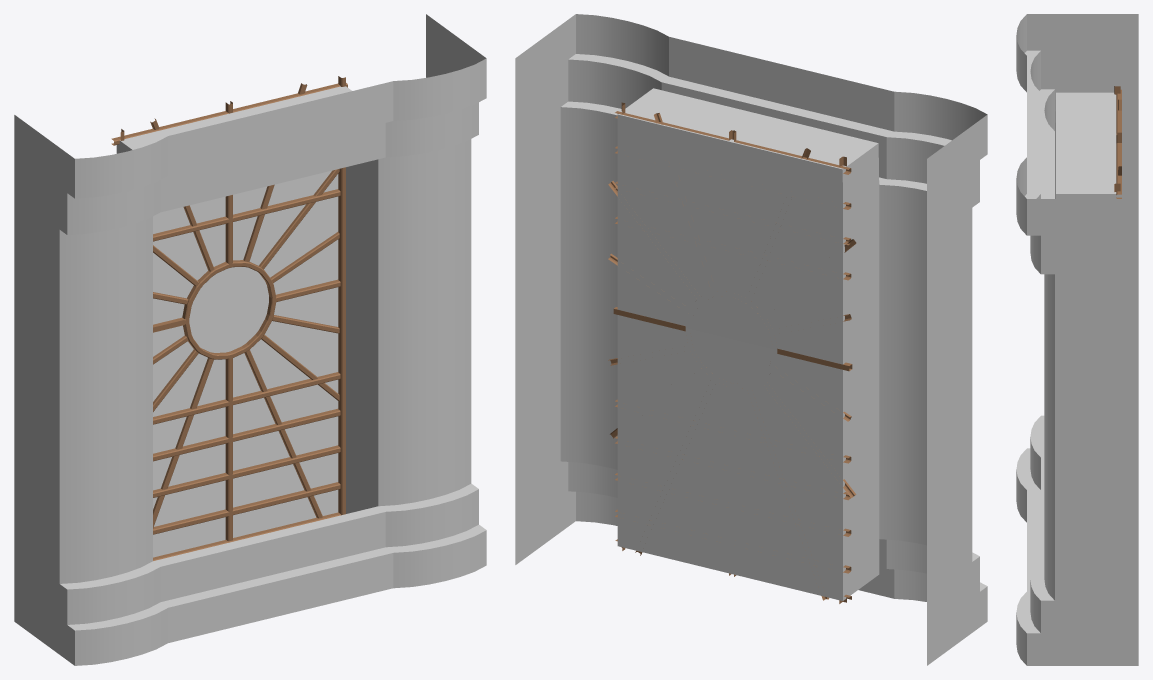
File: fauntain.fbx
The picture shows the model from 3 angles, left to right: view 1: azimuth 30°, elevation 25°; view 2: azimuth 150°, elevation 25°; view 3: azimuth 270°, elevation 25°; orthographic projection. The views are drawn at different scales.
Parts seen in each view (by area): view 1: hotel; view 2: hotel; view 3: hotel.
Part boxes in pixels (x1,y1,x2,y2): hotel: (14, 14, 486, 665); hotel: (515, 14, 987, 665); hotel: (1016, 14, 1138, 665).
Size of the model in its own units: 626 by 737 by 175.
